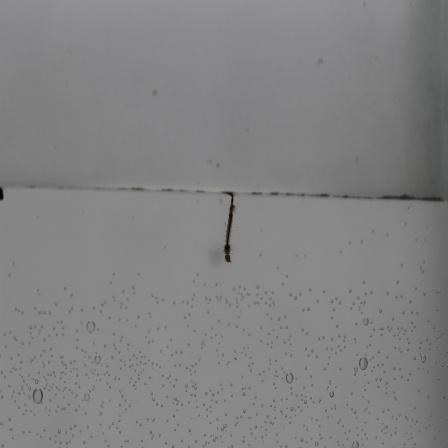Jentik-Nyamuk: (217, 192, 241, 266)
